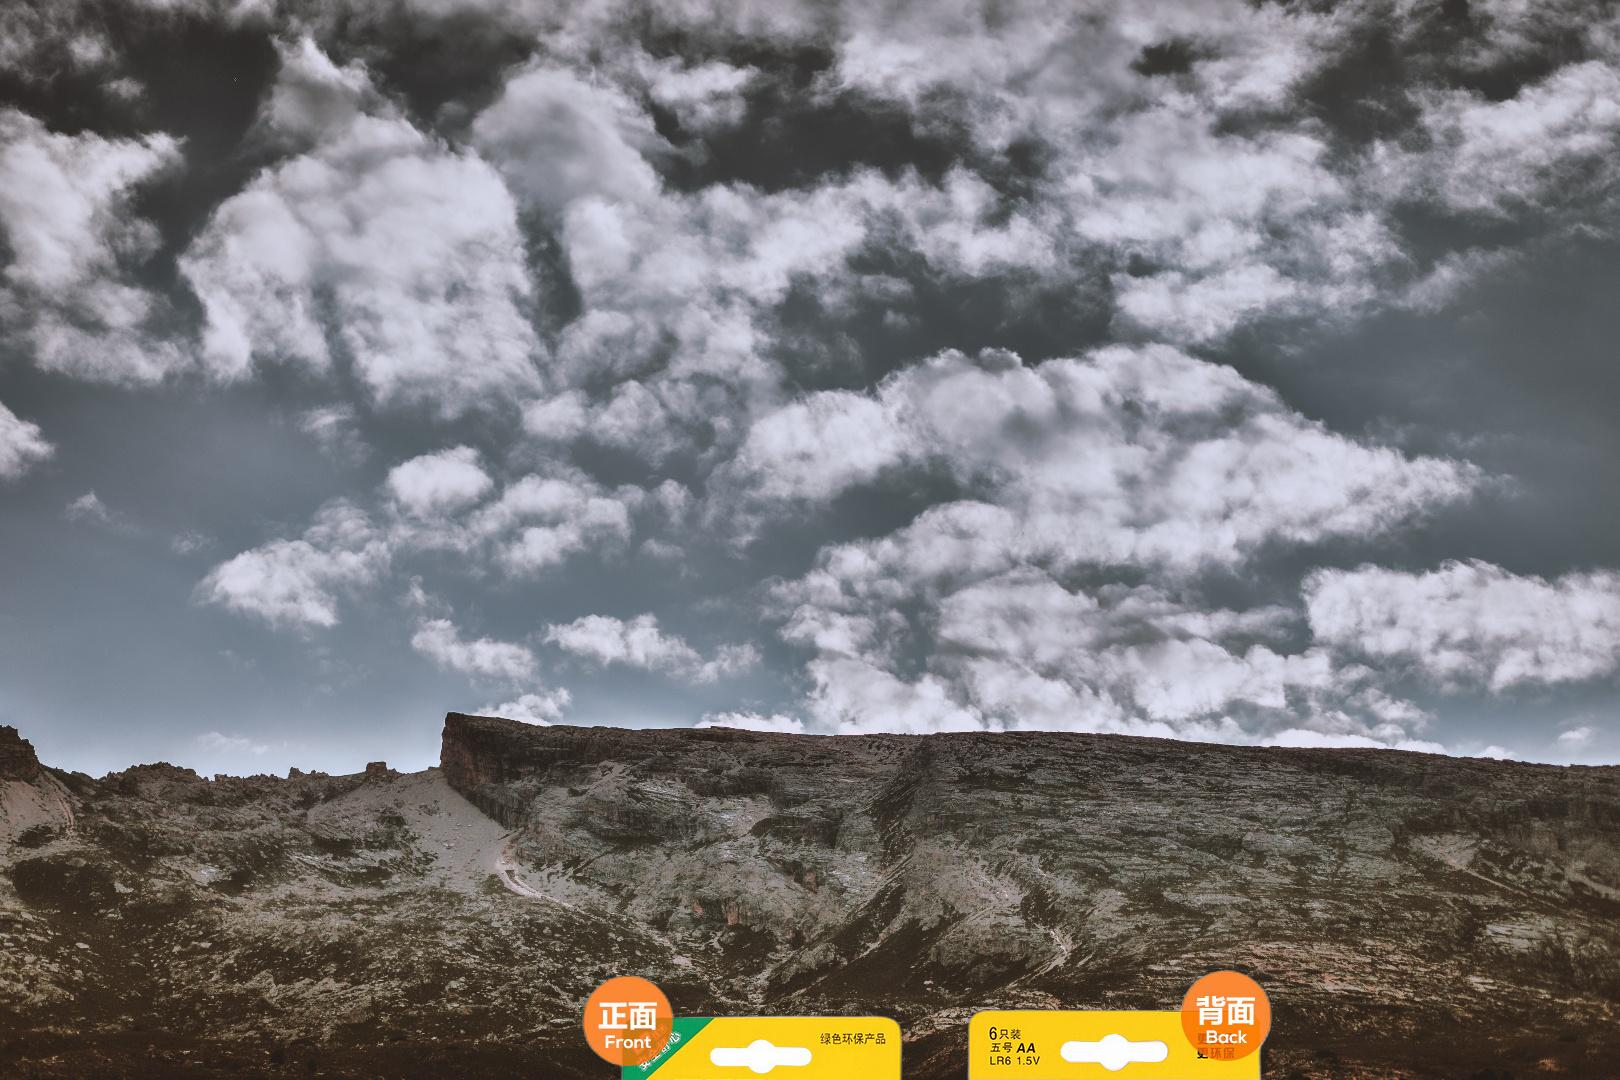battery: (576, 965, 1278, 1080)
